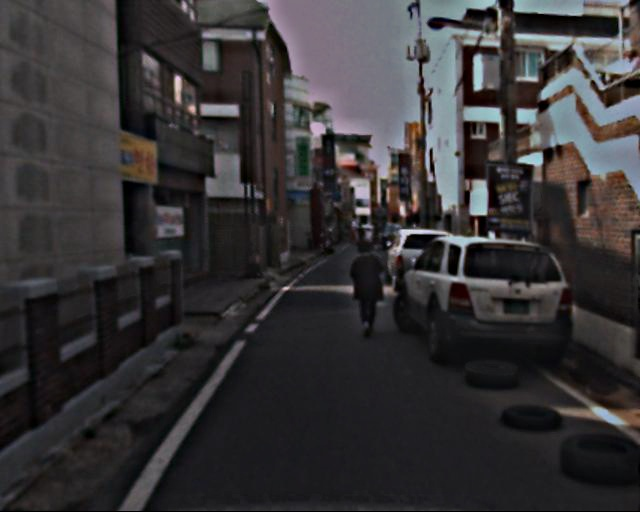person: (345, 235, 389, 343)
